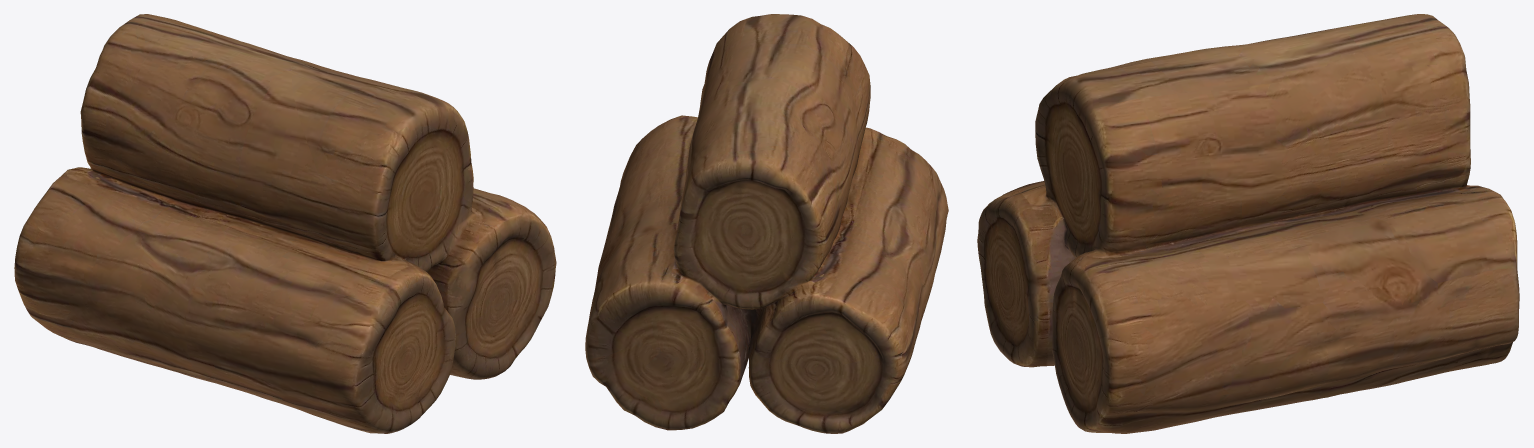
Rendered from Wood Log object.glb.
3 renders of one model, left to right at view 1: azimuth 30°, elevation 25°; view 2: azimuth 150°, elevation 25°; view 3: azimuth 270°, elevation 25°, orthographic. The views are drawn at different scales.
Size of the model in its own units: 1.89 by 1.27 by 1.99.
Materials: 1 (1 with a texture image).
